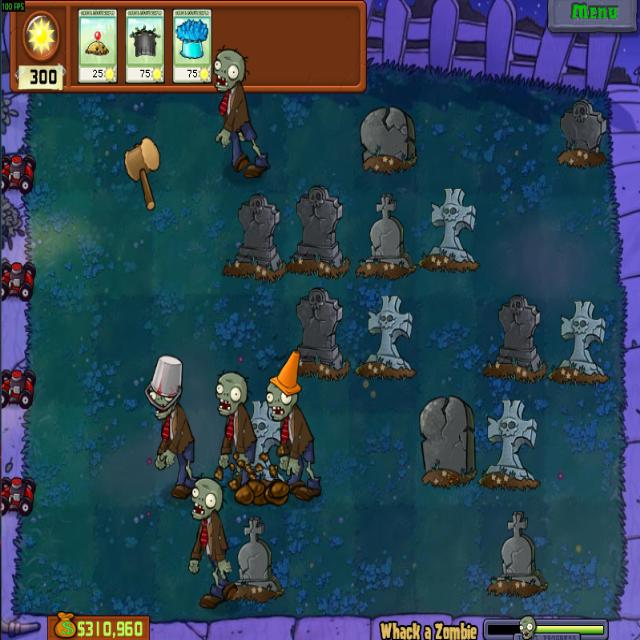buckethead: (144, 353, 184, 422)
conehead: (262, 347, 302, 422)
grave: (287, 182, 349, 281), (287, 284, 349, 382), (480, 293, 548, 381), (480, 396, 540, 491), (417, 395, 477, 487), (486, 509, 548, 598), (356, 293, 416, 382), (223, 194, 285, 280), (549, 300, 610, 386), (356, 192, 414, 280), (424, 187, 478, 275), (355, 103, 417, 176), (230, 511, 280, 600), (240, 397, 284, 493), (553, 96, 610, 169)
gravebuster: (125, 9, 165, 84)
zombie: (215, 371, 250, 419), (187, 477, 224, 522), (213, 46, 246, 93)
